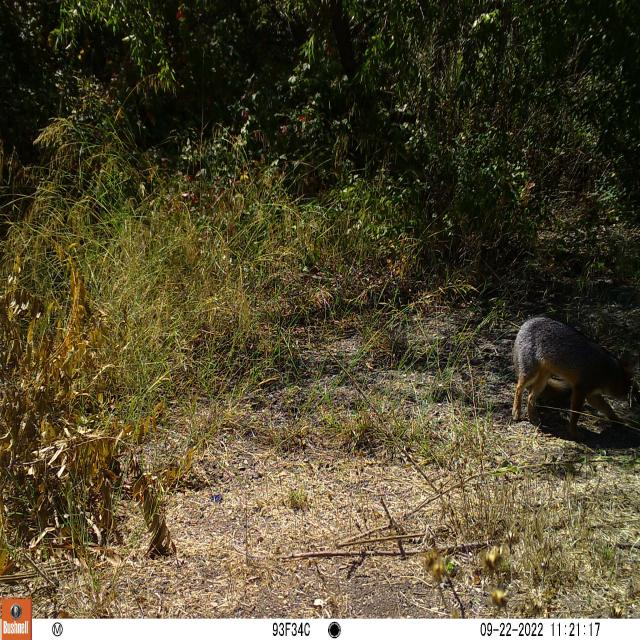Fox: (505, 308, 640, 452)
